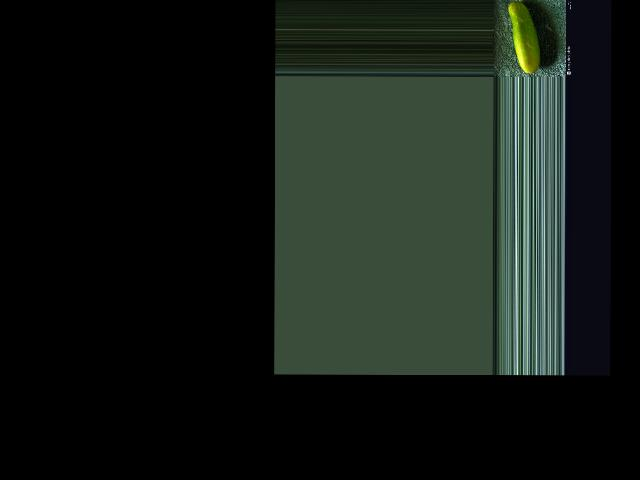cucumber: (508, 0, 540, 73)
